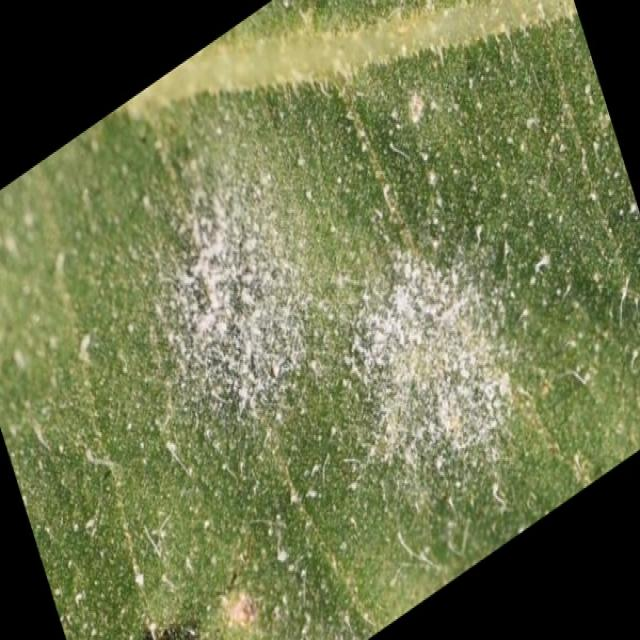Powdery Mildew: (150, 163, 520, 523)
